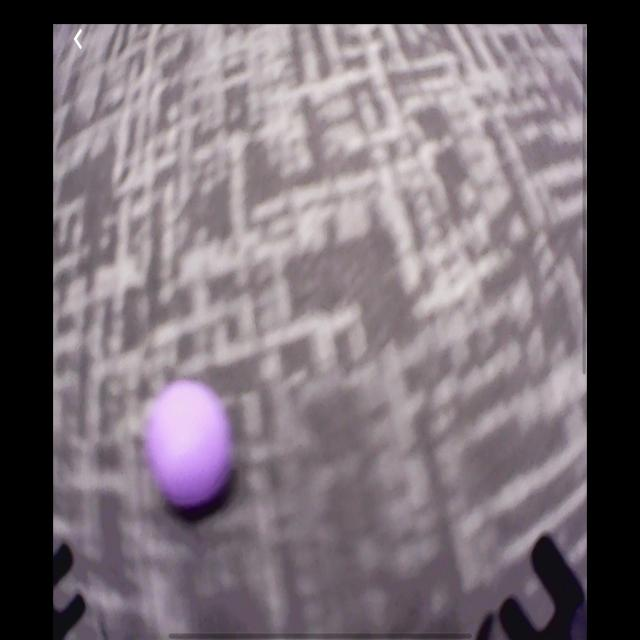ball: (144, 377, 236, 514)
